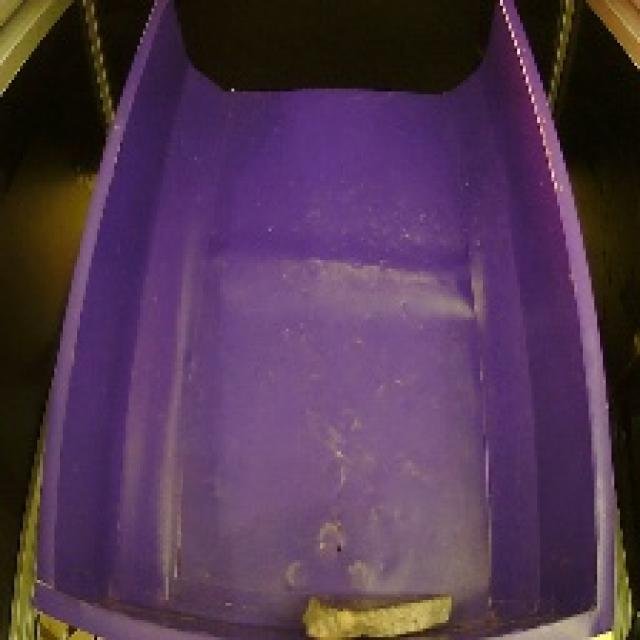china: (286, 571, 463, 640)
